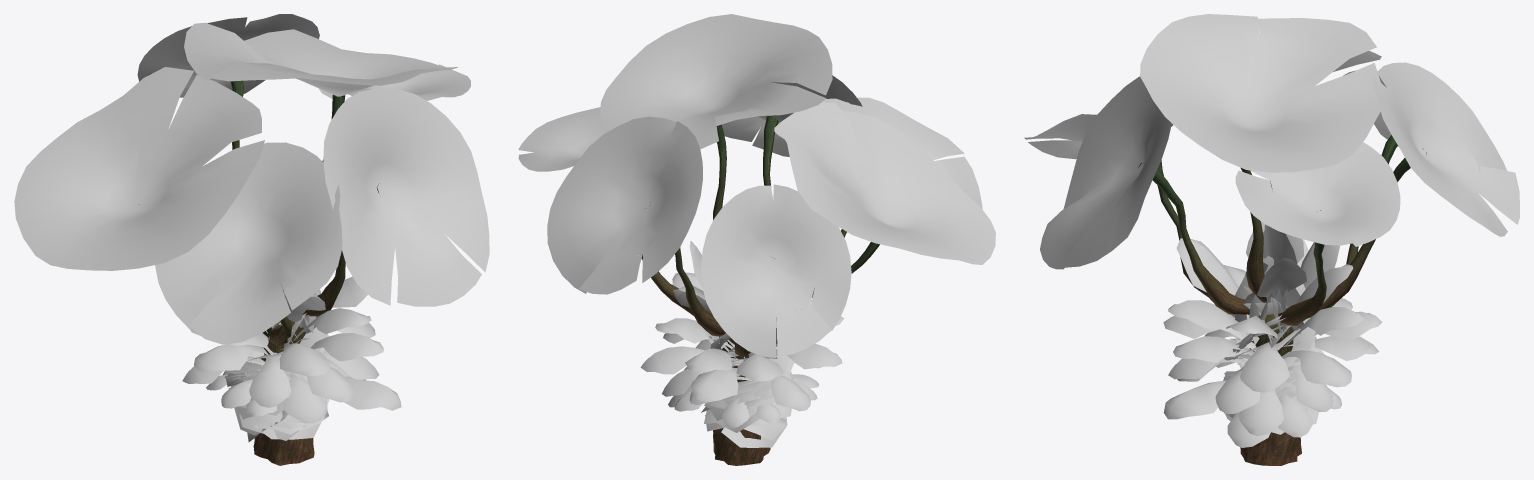
File: Plant2_2.fbx
The picture shows the model from 3 angles, left to right: view 1: azimuth 30°, elevation 25°; view 2: azimuth 150°, elevation 25°; view 3: azimuth 270°, elevation 25°; orthographic projection. The views are drawn at different scales.
Visible parts, largest first — view 1: polySurface34; view 2: polySurface34; view 3: polySurface34.
Part boxes in pixels (x1,y1,x2,y2): polySurface34: [14, 14, 489, 465]; polySurface34: [518, 14, 995, 465]; polySurface34: [1024, 14, 1519, 465].
Bounding box in the file's own units: 379 × 331 × 358.
